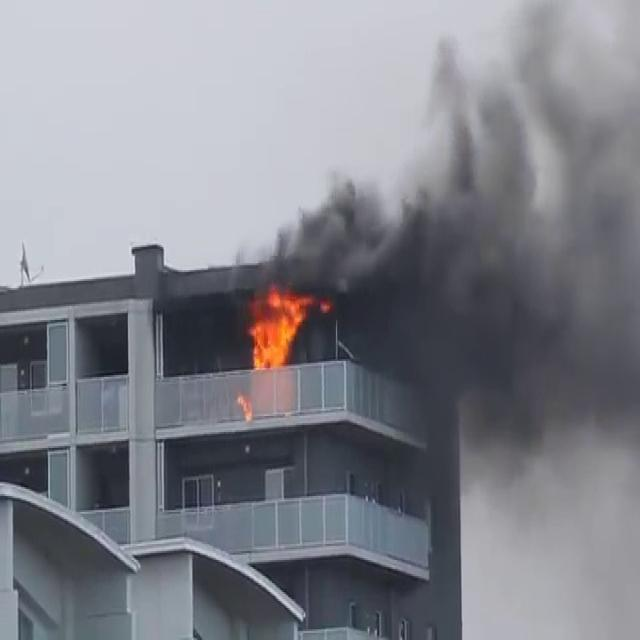Fire: (242, 283, 315, 373)
Smoke: (268, 3, 640, 316), (400, 2, 640, 466)
